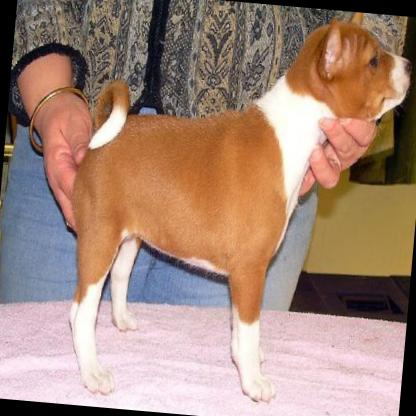basenji: (53, 0, 414, 416)
